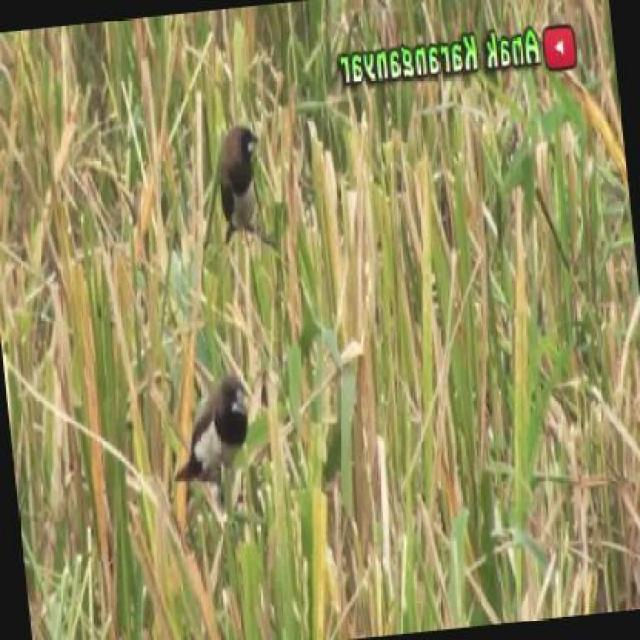Bird: (164, 365, 270, 533), (198, 104, 303, 263)
